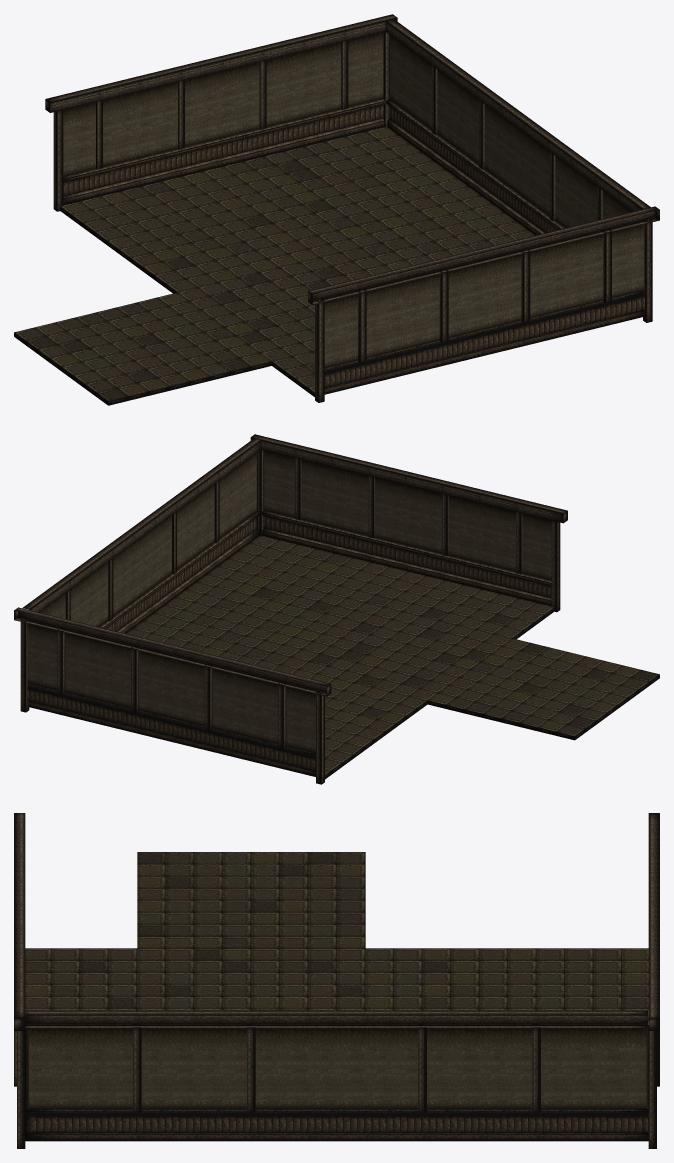
File: EnvBdgMD_WoodHouse_A_Indoor_Pub_A.FBX
3 renders of one model, top to bottom at view 1: azimuth 30°, elevation 25°; view 2: azimuth 150°, elevation 25°; view 3: azimuth 270°, elevation 25°, orthographic. The views are drawn at different scales.
Parts seen in each view (by area): view 1: EnvBdgMD_WoodHouse_A_Indoor_Pub_A; view 2: EnvBdgMD_WoodHouse_A_Indoor_Pub_A; view 3: EnvBdgMD_WoodHouse_A_Indoor_Pub_A.
Part boxes in pixels (bbox=[...]): EnvBdgMD_WoodHouse_A_Indoor_Pub_A: bbox=[14, 14, 659, 405]; EnvBdgMD_WoodHouse_A_Indoor_Pub_A: bbox=[14, 434, 659, 784]; EnvBdgMD_WoodHouse_A_Indoor_Pub_A: bbox=[14, 813, 659, 1148].
Size of the model in its own units: 2450 by 520 by 2265.
1 material, 1 textured.
